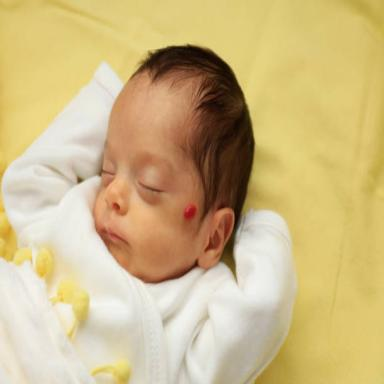Hemangiome: (184, 204, 197, 219)
